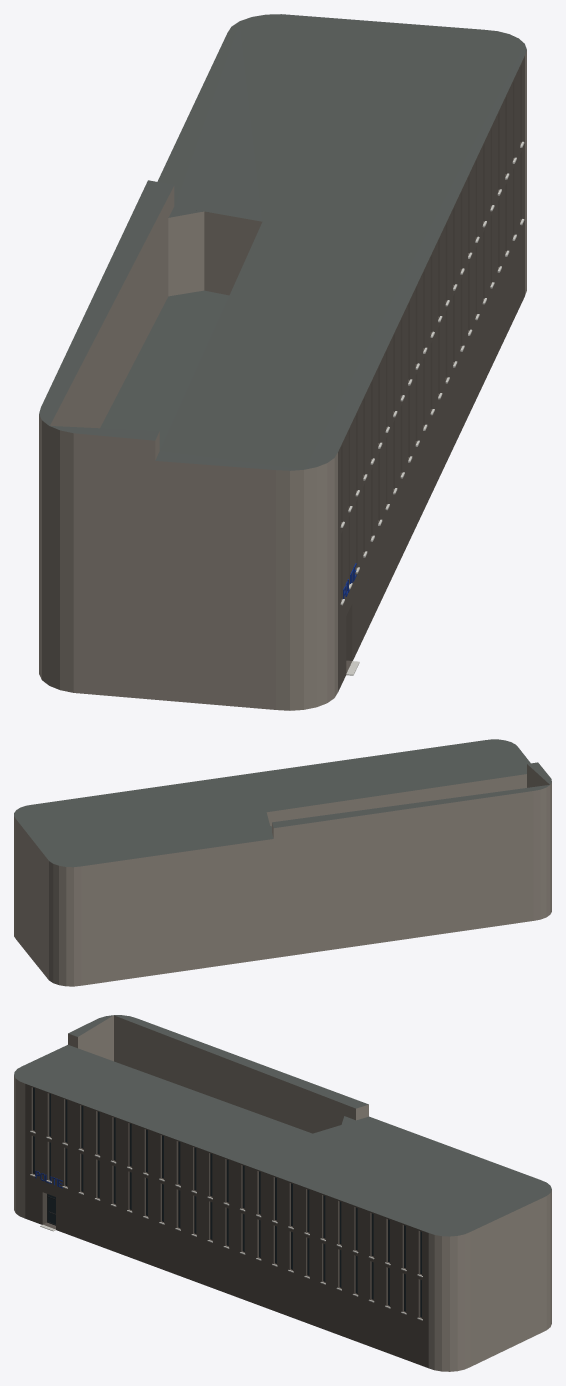
File: recipe-large-politie-oost-zeeburg.glb
3 renders of one model, top to bottom at view 1: azimuth 30°, elevation 25°; view 2: azimuth 150°, elevation 25°; view 3: azimuth 270°, elevation 25°, orthographic. The views are drawn at different scales.
Visible parts, largest first — view 1: politie-oost-zeeburg; view 2: politie-oost-zeeburg; view 3: politie-oost-zeeburg.
Boxes of the visible parts, x1,y1,x2,y2 form: politie-oost-zeeburg: (39, 14, 526, 710); politie-oost-zeeburg: (14, 739, 551, 986); politie-oost-zeeburg: (14, 1015, 551, 1371).
Bounding box in the file's own units: 41.8 × 13.51 × 45.1.
